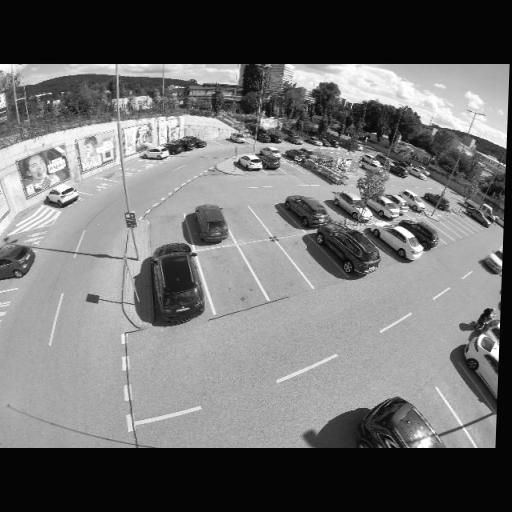busy: (348, 396, 453, 448), (146, 241, 212, 322), (463, 316, 500, 415), (318, 226, 381, 276), (373, 224, 422, 260), (191, 202, 233, 242), (284, 194, 332, 226), (0, 245, 35, 285), (332, 191, 371, 222), (404, 219, 440, 248), (366, 194, 398, 219), (46, 184, 80, 206), (398, 190, 425, 212), (482, 246, 501, 277), (314, 167, 343, 185), (143, 144, 171, 162), (423, 192, 450, 210), (261, 149, 284, 169), (239, 153, 263, 172), (282, 148, 304, 164), (181, 136, 205, 150), (167, 140, 187, 156), (260, 146, 281, 160), (229, 132, 246, 144)
free: (436, 381, 484, 422), (208, 263, 248, 292), (257, 256, 289, 277), (299, 252, 327, 270), (234, 219, 258, 232), (266, 215, 289, 228), (110, 167, 128, 180), (280, 164, 299, 175), (87, 180, 105, 191), (129, 160, 147, 170), (444, 228, 455, 236), (435, 230, 445, 238), (452, 221, 462, 227), (464, 224, 472, 229)
